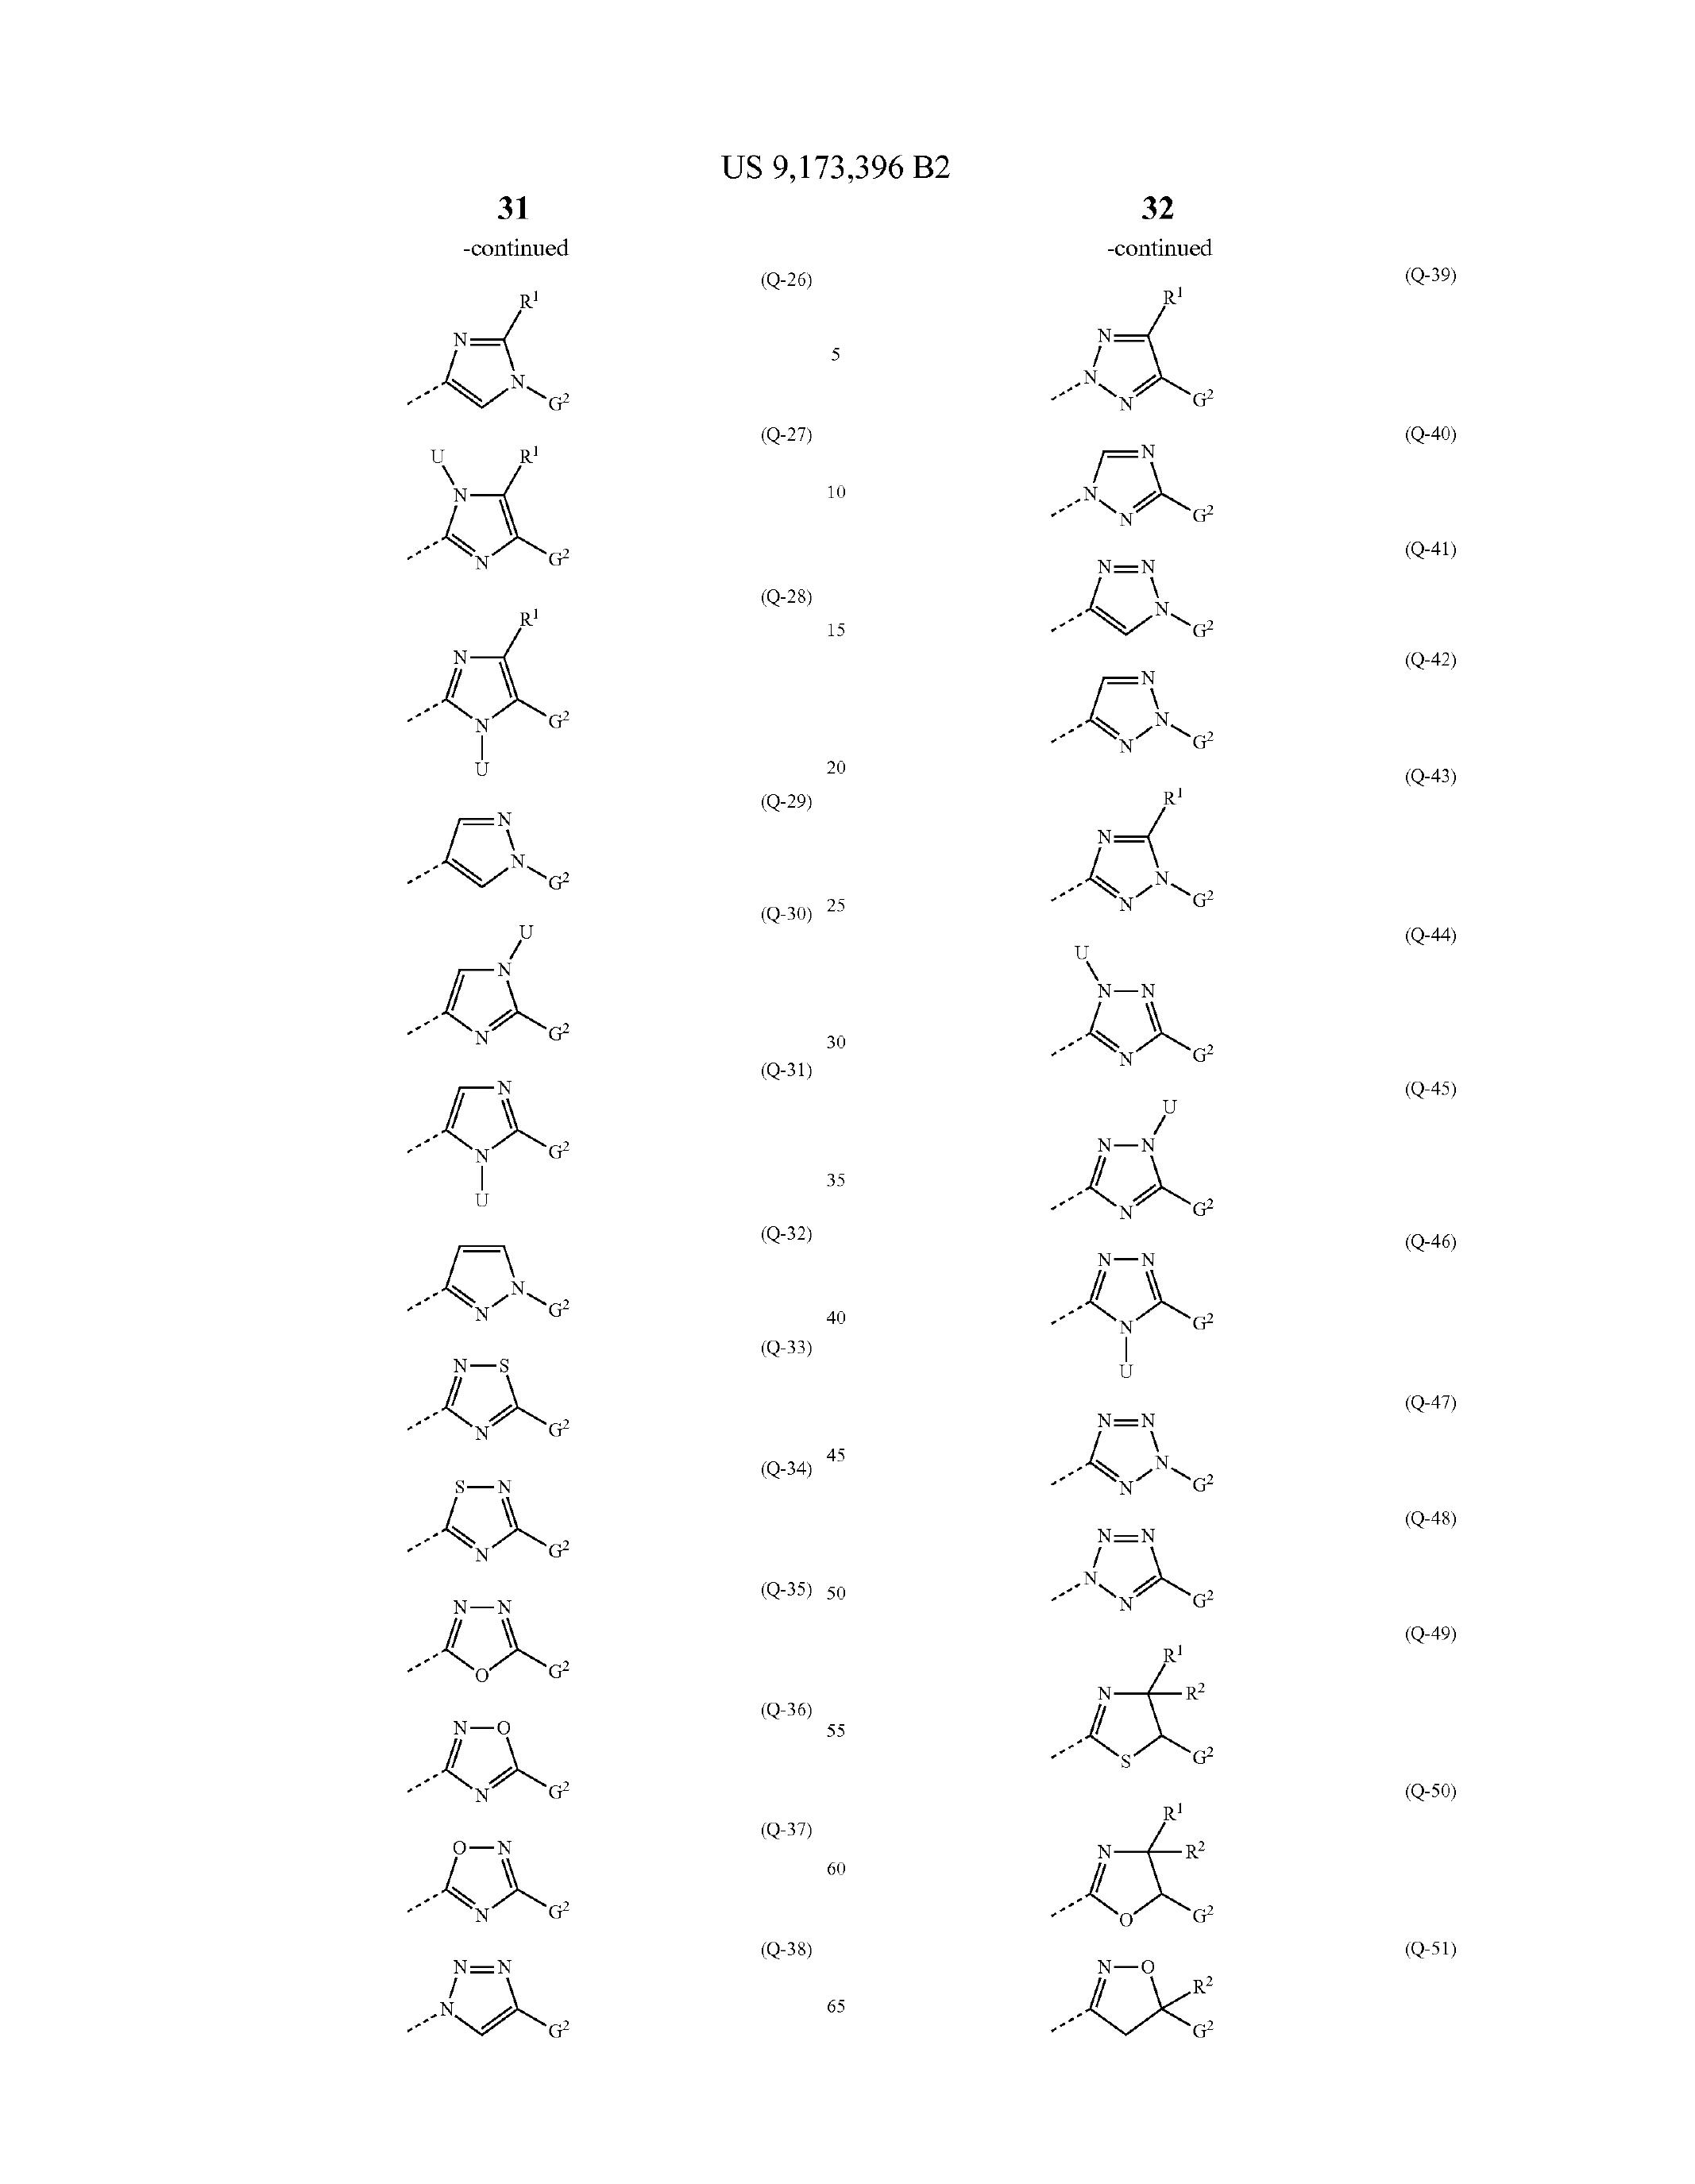intermediates: (972, 1627, 1291, 2060)
